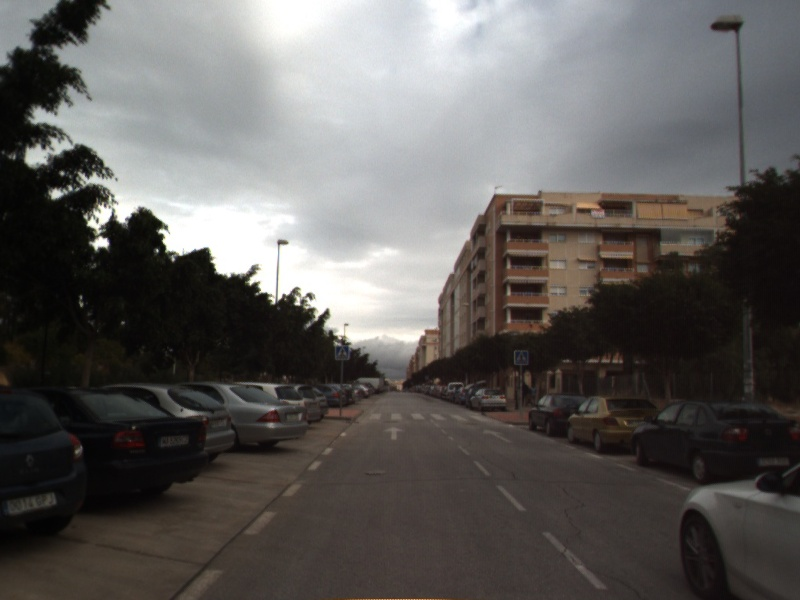STRAIGHT: (481, 427, 515, 445), (382, 424, 407, 442)
